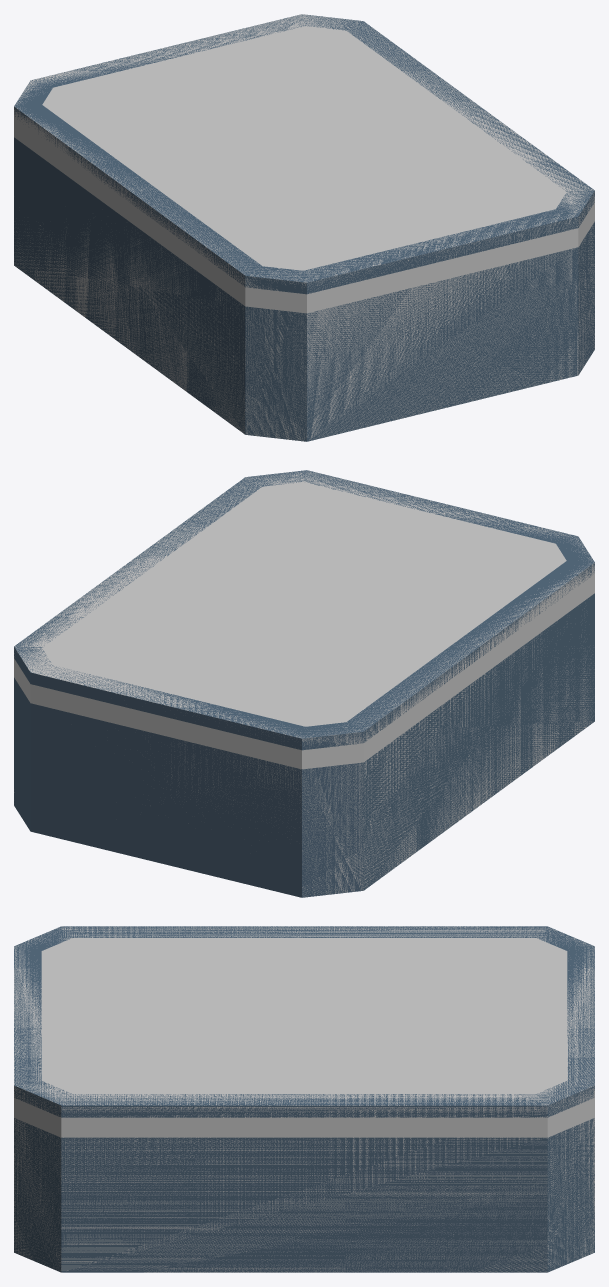
The model's file is SM_Building_14_Middle.fbx.
The picture shows the model from 3 angles, top to bottom: view 1: azimuth 30°, elevation 25°; view 2: azimuth 150°, elevation 25°; view 3: azimuth 270°, elevation 25°; orthographic projection. The views are drawn at different scales.
Visible parts, largest first — view 1: SM_Building_14_Middle_ConvexHulls, SM_Building_14_Middle; view 2: SM_Building_14_Middle_ConvexHulls, SM_Building_14_Middle; view 3: SM_Building_14_Middle_ConvexHulls, SM_Building_14_Middle.
Boxes of the visible parts, box(x1,y1,x2,y2) form: SM_Building_14_Middle_ConvexHulls: box(14, 14, 594, 441); SM_Building_14_Middle: box(14, 14, 594, 441); SM_Building_14_Middle_ConvexHulls: box(14, 470, 594, 896); SM_Building_14_Middle: box(14, 470, 594, 897); SM_Building_14_Middle_ConvexHulls: box(14, 926, 594, 1272); SM_Building_14_Middle: box(14, 926, 594, 1272).
Size of the model in its own units: 920 by 1260 by 400.
Materials: 2 (1 with a texture image).
